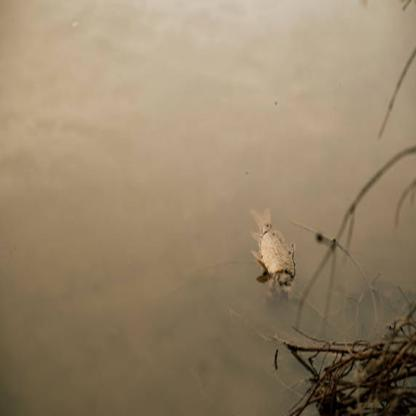deceased fish: (244, 204, 297, 303)
